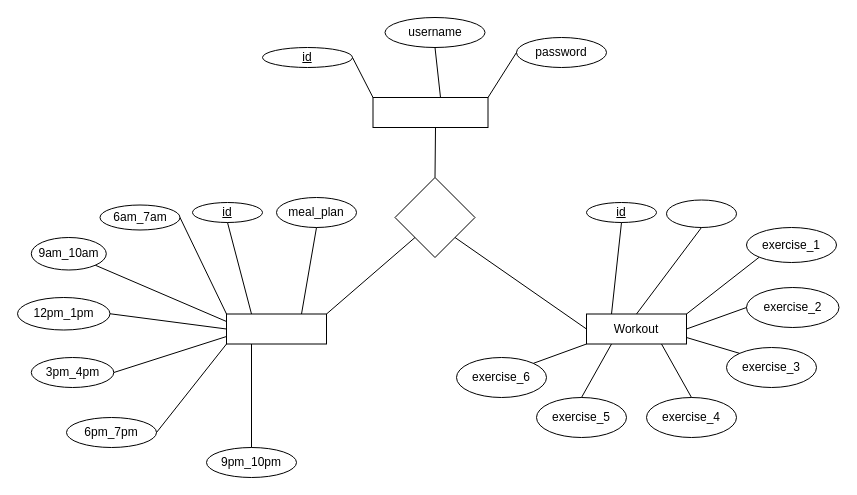
This 857x495 diagram has some shape labels left out. Here are the shapes that lost their labels. From the top down, the centre of each, then its label:
At [430,112]: "Trainer Login".
At [434,217]: "Writes/ Read".
At [701,213]: "day".
At [276,328]: "Meal Plan".
